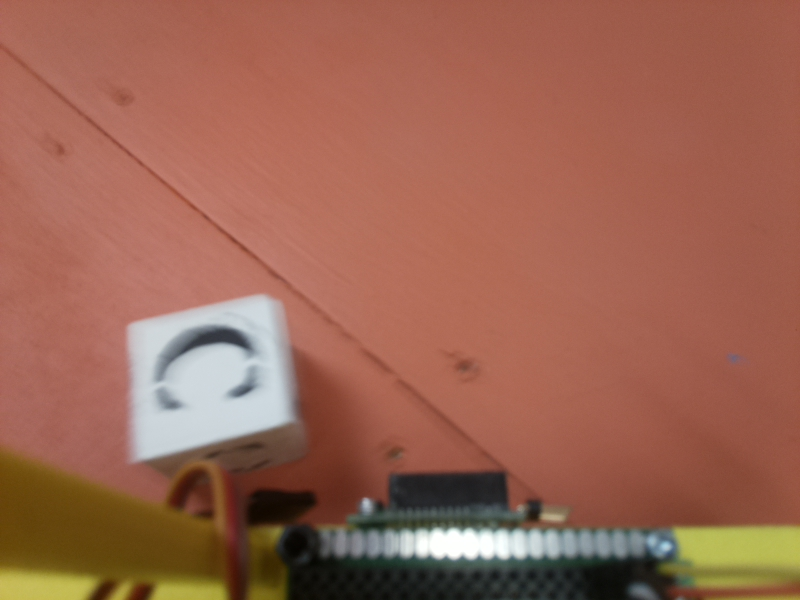blockC: (122, 298, 314, 481)
